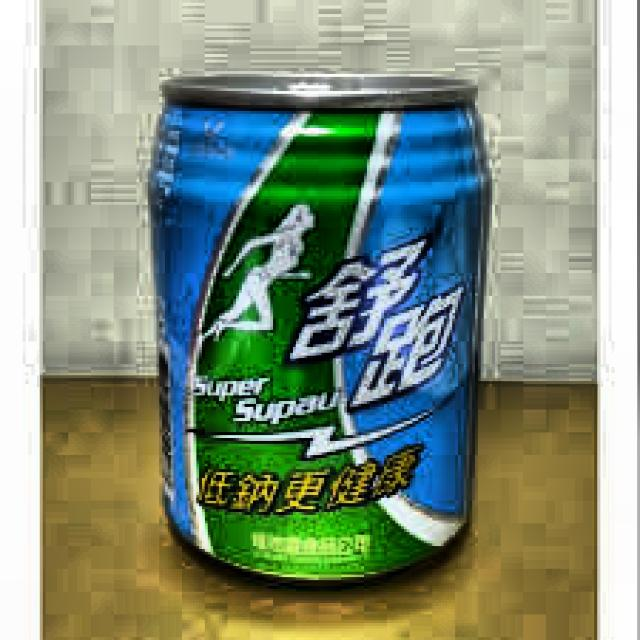can: (140, 63, 497, 600)
